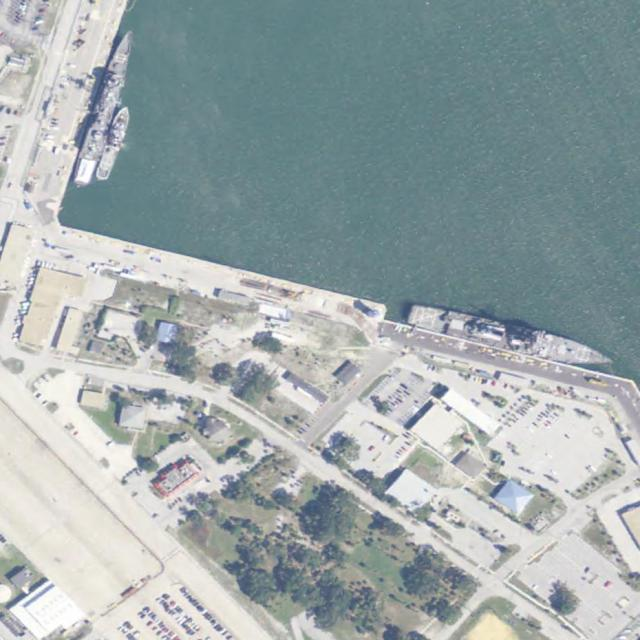Destroyer: (406, 300, 618, 373)
Frigate: (74, 26, 138, 186)
Other Warship: (95, 102, 135, 184)
